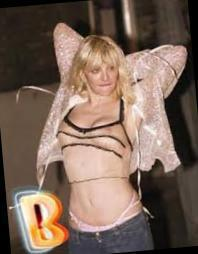Drunk: (87, 60, 117, 92)
